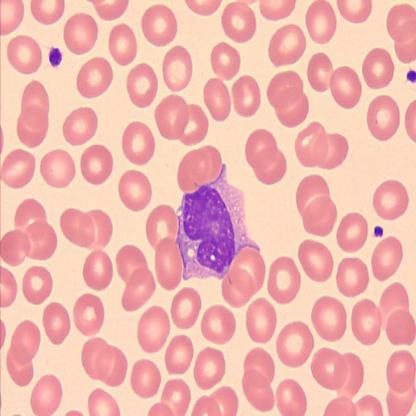Monocyte: (172, 157, 263, 284)
